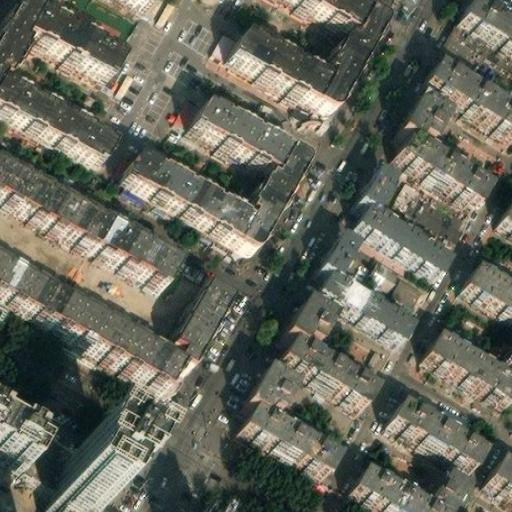building: (0, 164, 176, 290), (120, 157, 264, 259), (275, 292, 376, 412), (311, 234, 409, 348), (355, 164, 451, 275), (399, 92, 491, 203), (189, 108, 304, 193), (384, 401, 481, 476), (28, 8, 123, 79), (419, 335, 512, 407), (424, 57, 512, 130), (235, 408, 325, 475), (48, 440, 126, 512), (162, 291, 225, 373), (350, 463, 429, 512), (459, 263, 512, 317), (241, 179, 289, 235), (237, 368, 286, 419), (422, 466, 468, 512), (382, 272, 428, 315), (0, 415, 36, 466), (481, 461, 512, 501), (490, 334, 512, 382), (493, 196, 512, 240)
